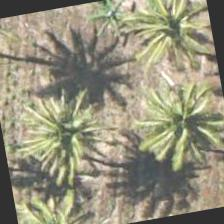Kelapa_Sawit: (21, 86, 125, 190), (133, 70, 223, 175), (118, 0, 218, 82)
